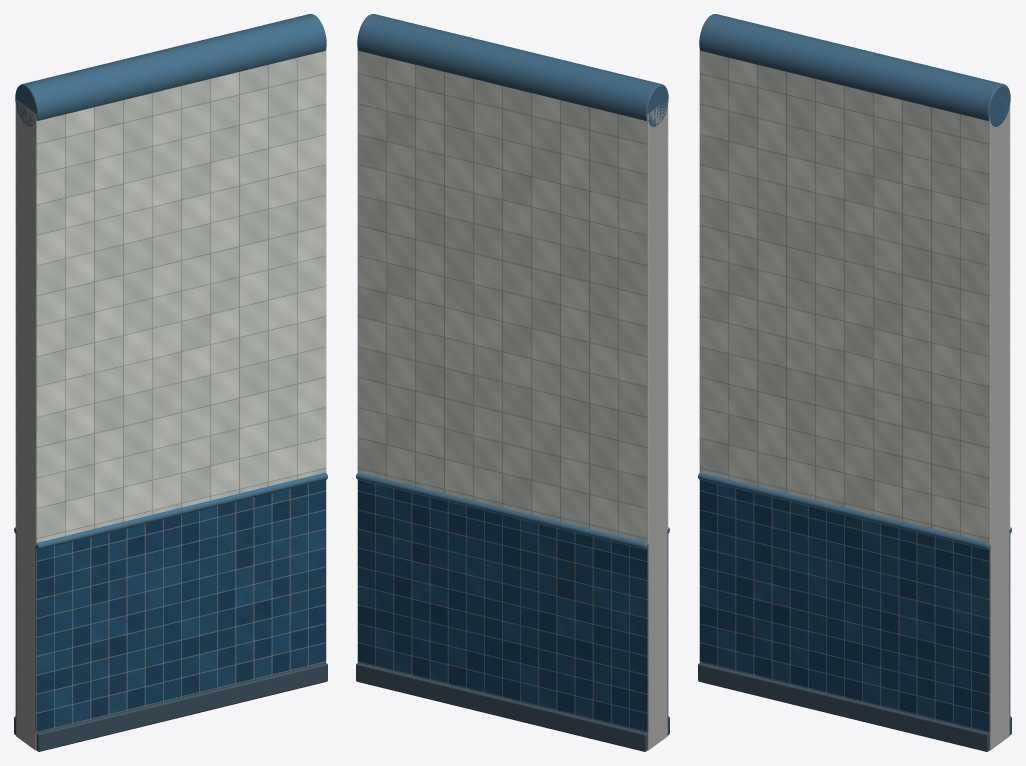
The model's file is tile_partition_module.glb.
3 renders of one model, left to right at view 1: azimuth 30°, elevation 25°; view 2: azimuth 150°, elevation 25°; view 3: azimuth 330°, elevation 25°, orthographic.
Visible parts, largest first — view 1: TilePartition; view 2: TilePartition; view 3: TilePartition.
Part boxes in pixels (x1,y1,x2,y2): TilePartition: (14, 14, 327, 751); TilePartition: (356, 14, 669, 751); TilePartition: (698, 14, 1011, 751).
Bounding box in the file's own units: 2 × 4.33 × 0.2979.
Materials: 5 (2 with a texture image).
